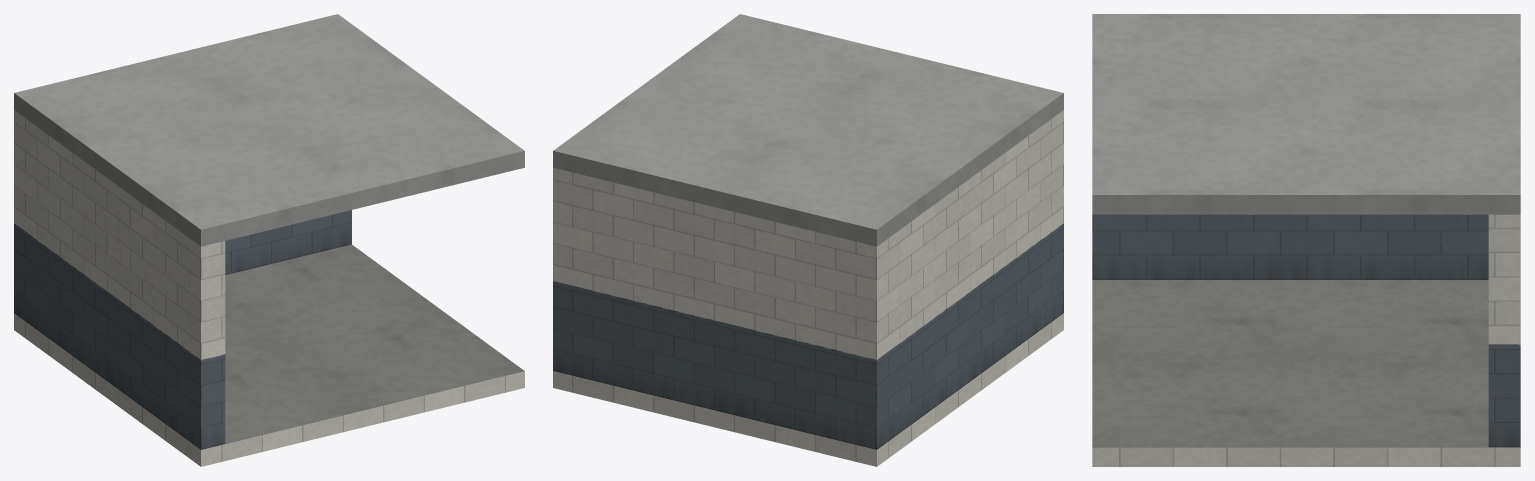
Rendered from Room_Basement_Corner.glb.
3 views of the same model, side by side, from view 1: azimuth 30°, elevation 25°; view 2: azimuth 150°, elevation 25°; view 3: azimuth 270°, elevation 25° (orthographic). The views are drawn at different scales.
Visible parts, largest first — view 1: Room_Basement_Corner, Room_Basement_Corner_Ceiling; view 2: Room_Basement_Corner, Room_Basement_Corner_Ceiling; view 3: Room_Basement_Corner, Room_Basement_Corner_Ceiling.
Boxes of the visible parts, <box> form: Room_Basement_Corner: <box>14,110,524,466</box>; Room_Basement_Corner_Ceiling: <box>14,14,524,246</box>; Room_Basement_Corner: <box>553,110,1063,466</box>; Room_Basement_Corner_Ceiling: <box>553,14,1063,246</box>; Room_Basement_Corner: <box>1092,214,1520,466</box>; Room_Basement_Corner_Ceiling: <box>1092,14,1520,214</box>.
Size of the model in its own units: 4 by 2.8 by 4.
Materials: 5 (3 with a texture image).
